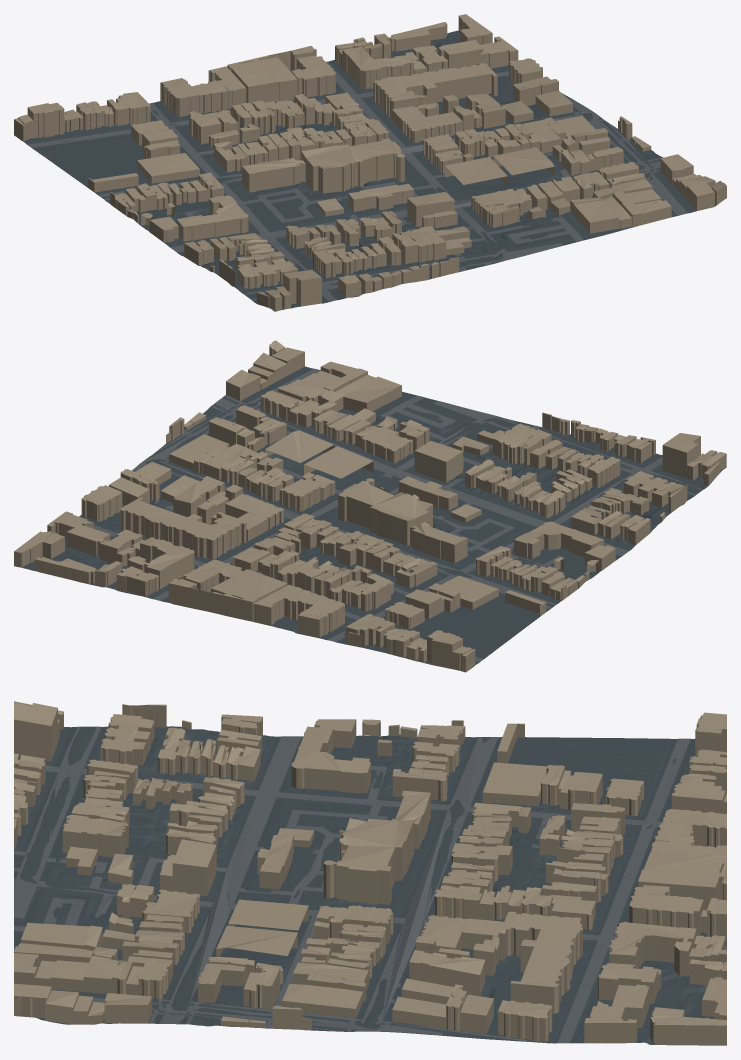
File: epsg26910-1431-10891.lod0.glb
3 views of the same model, one above another, from view 1: azimuth 30°, elevation 25°; view 2: azimuth 150°, elevation 25°; view 3: azimuth 270°, elevation 25° (orthographic). The views are drawn at different scales.
Visible parts, largest first — view 1: epsg26910-1431-10891-lod0; view 2: epsg26910-1431-10891-lod0; view 3: epsg26910-1431-10891-lod0.
Part boxes in pixels (x1,y1,x2,y2): epsg26910-1431-10891-lod0: (14, 14, 726, 311); epsg26910-1431-10891-lod0: (14, 340, 726, 672); epsg26910-1431-10891-lod0: (14, 701, 726, 1045).
Bounding box in the file's own units: 384 × 34.99 × 384.
